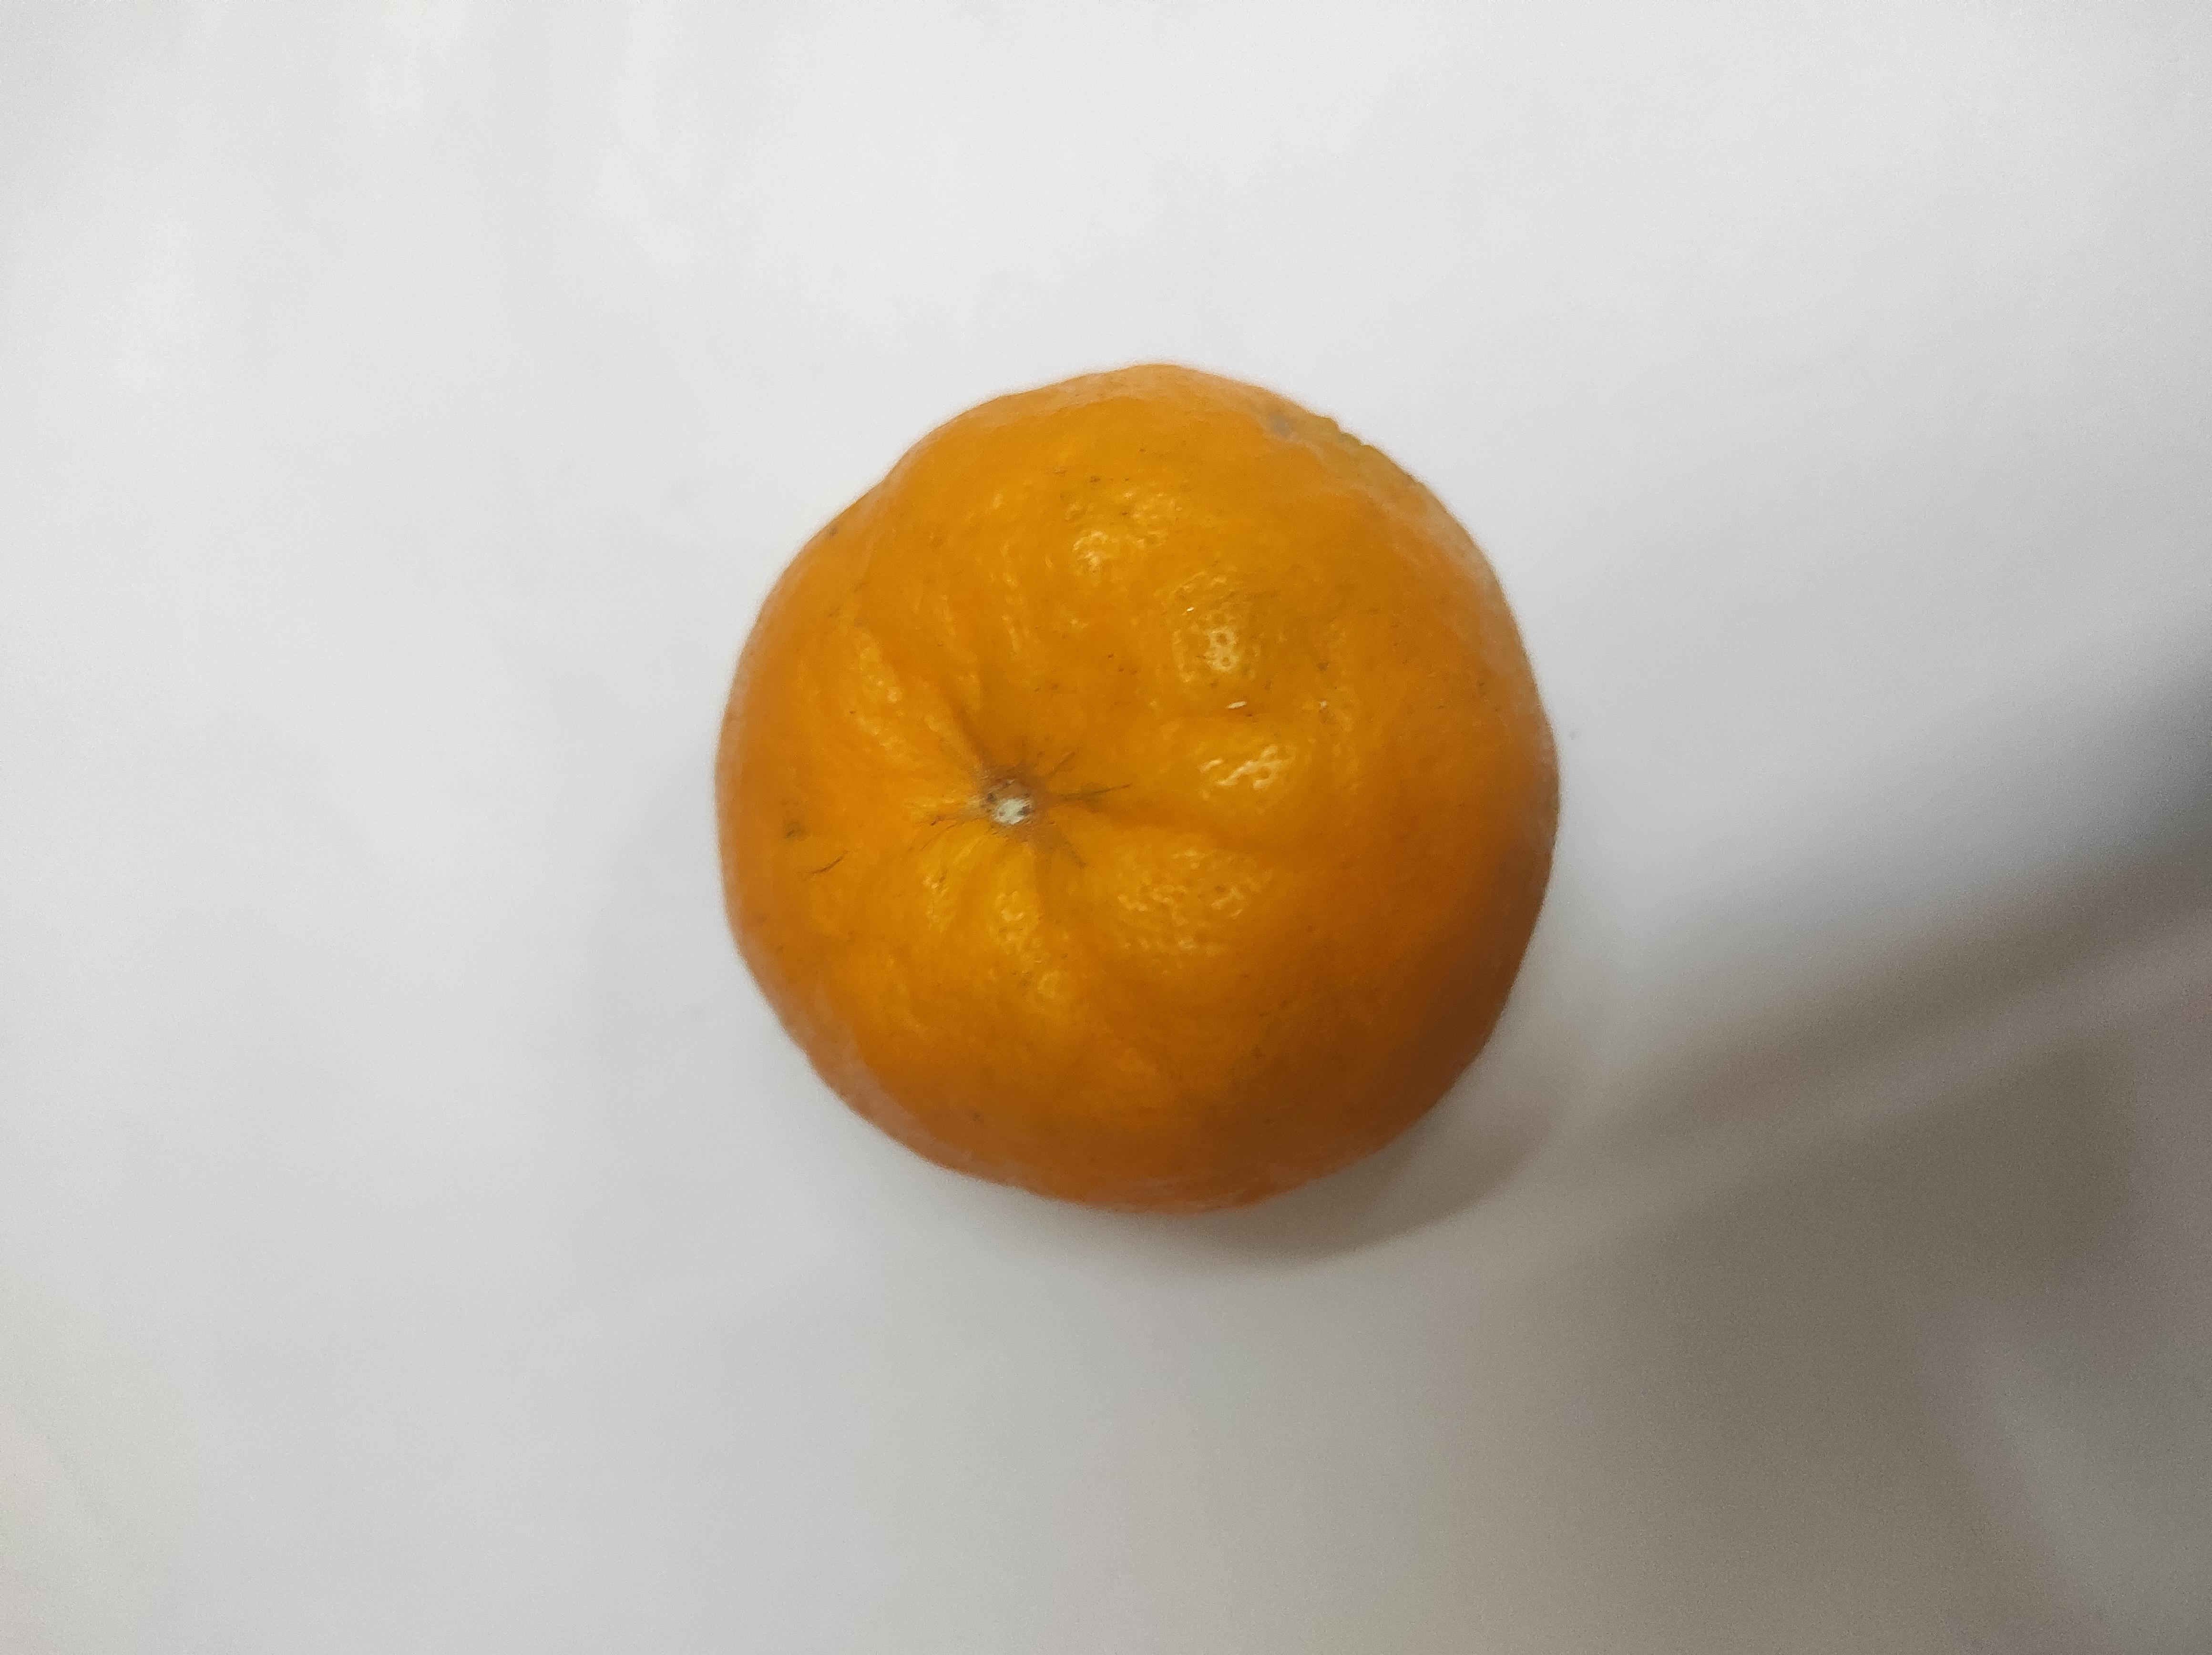Ripe: (710, 372, 1582, 1201)
